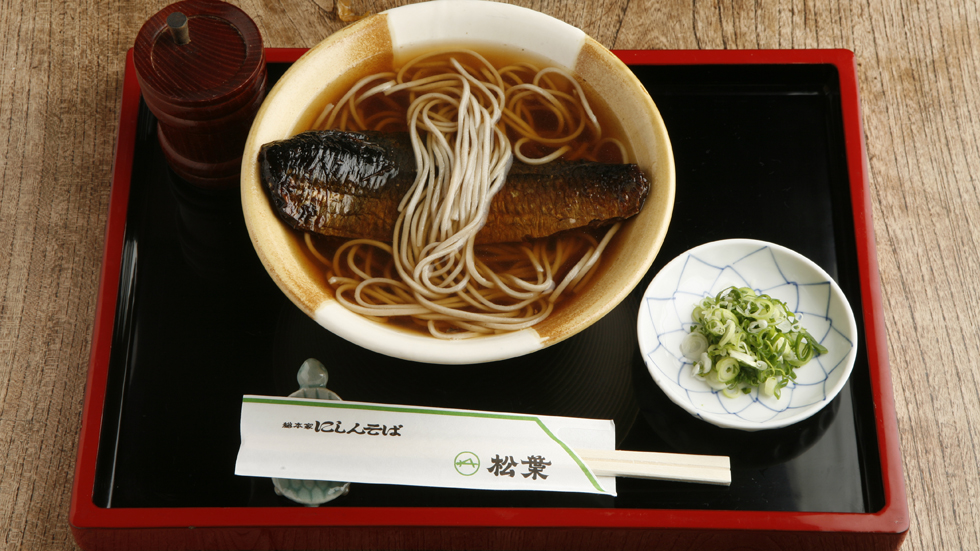Soba: (306, 50, 637, 331)
